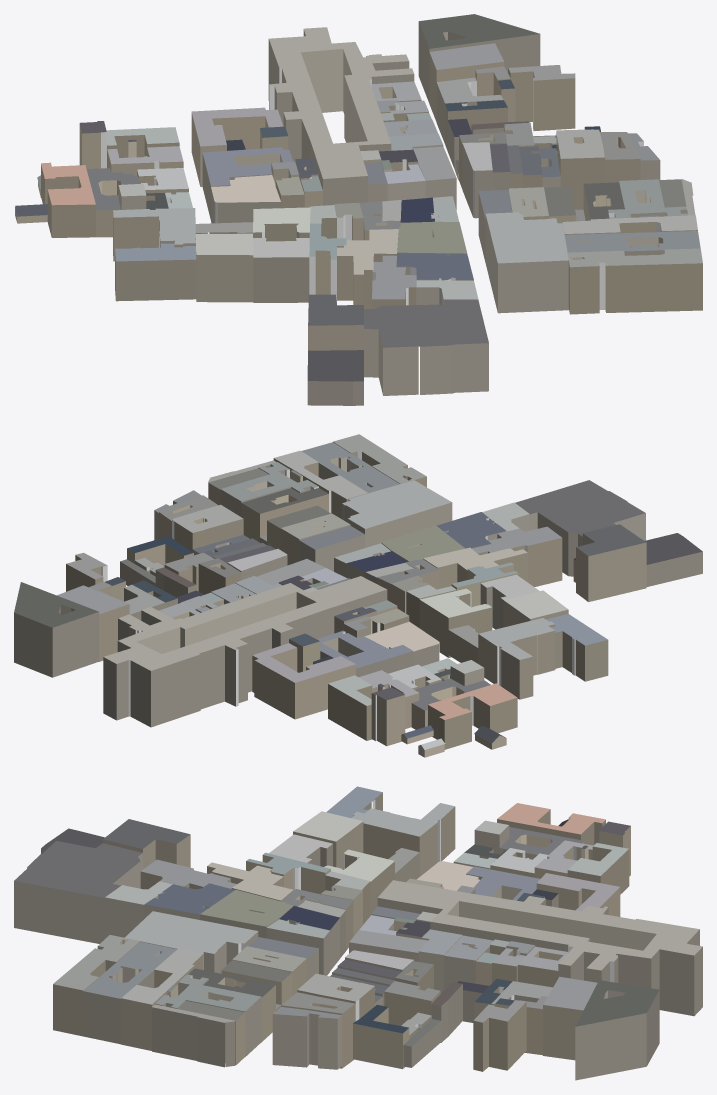
3 views of the same model, one above another, from view 1: azimuth 30°, elevation 25°; view 2: azimuth 150°, elevation 25°; view 3: azimuth 270°, elevation 25° (orthographic). The views are drawn at different scales.
Visible parts, largest first — view 1: tuile; view 2: tuile; view 3: tuile.
Boxes of the visible parts, x1,y1,x2,y2 form: tuile: (15, 14, 702, 405); tuile: (14, 434, 702, 757); tuile: (14, 786, 702, 1080).
Size of the model in its own units: 275 by 31.32 by 314.
